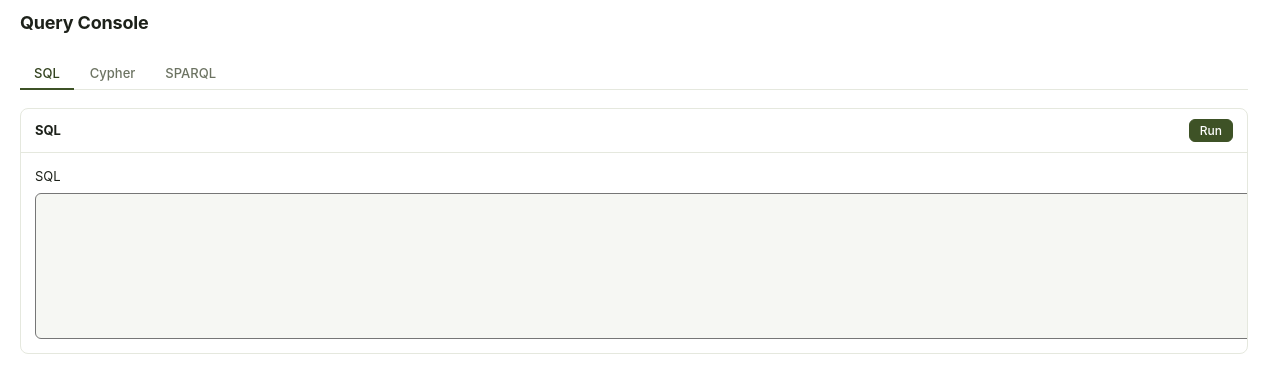
each tab keeps its own state when you switch away and back
Type "SELECT legal_name FROM counterparties" into the text box labelled "SQL" at (649, 266), box [35,192,1263,338]
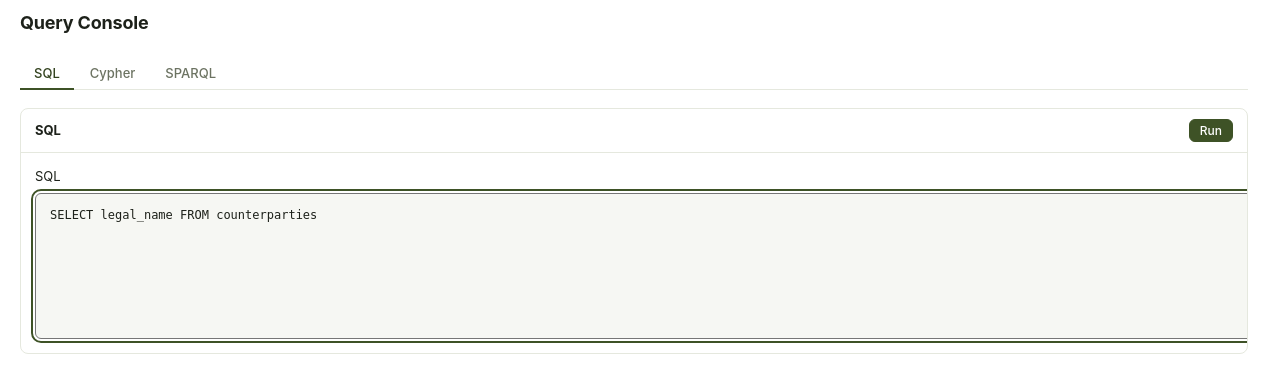
Click the button "Run" at (1211, 130), box [1189,119,1233,142]
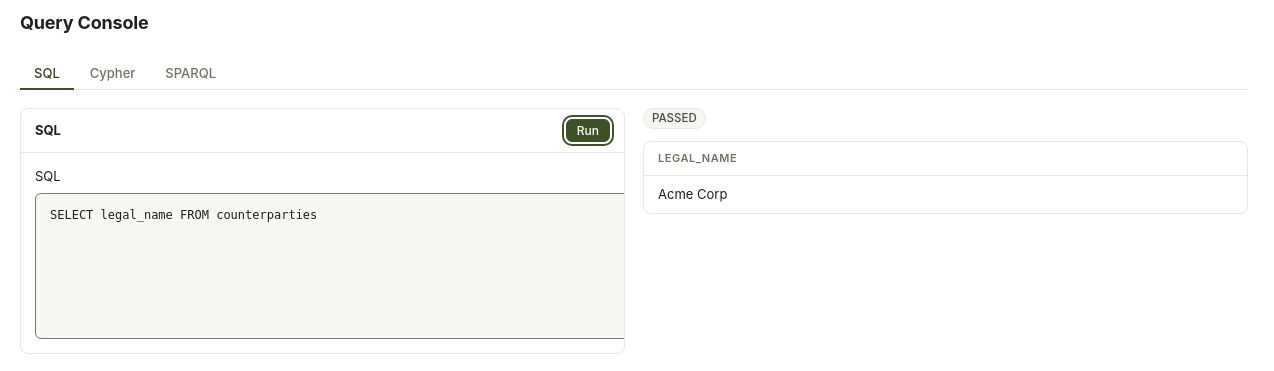
Expected: the cell "Acme Corp" is shown, [644,175,1247,213]
Click the tab "Cypher" at (113, 74), box [76,58,149,90]
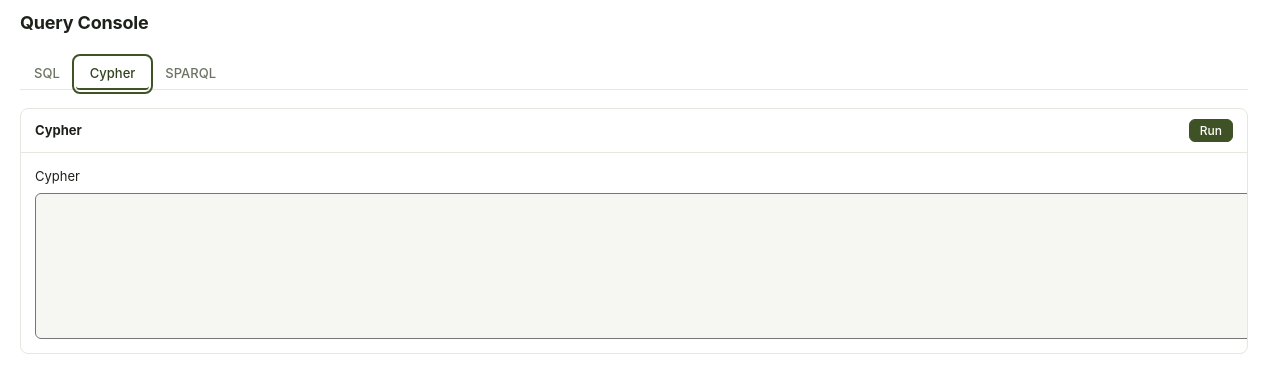
Click the tab "SQL" at (47, 74), box [20,58,74,90]
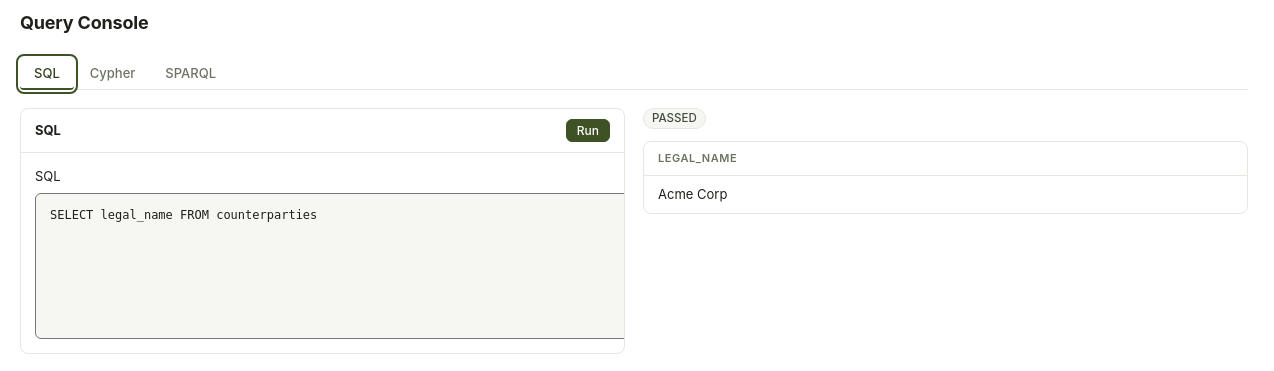
Expected: the cell "Acme Corp" is shown, [644,175,1247,213]
